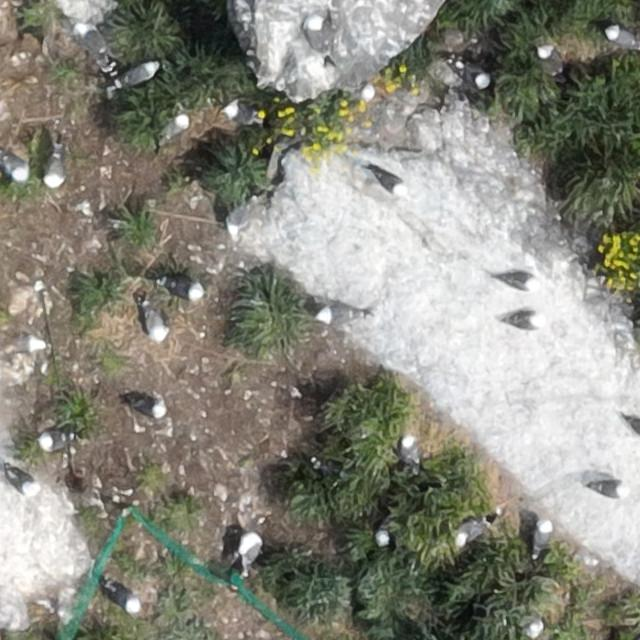umineko: (74, 21, 119, 82), (110, 585, 141, 612), (121, 61, 157, 83), (458, 62, 491, 86), (305, 18, 325, 56), (2, 154, 29, 181), (372, 169, 402, 193), (224, 105, 258, 126), (162, 114, 188, 141), (45, 151, 65, 185), (168, 280, 202, 300), (458, 518, 486, 542), (146, 307, 167, 339), (606, 26, 636, 48), (238, 534, 259, 565), (128, 398, 162, 417), (318, 305, 356, 322), (586, 479, 623, 496), (9, 470, 36, 492), (534, 522, 552, 554), (499, 272, 534, 288), (401, 436, 419, 465), (375, 514, 392, 544), (505, 314, 540, 328), (41, 432, 68, 450), (18, 335, 44, 350), (623, 416, 639, 439)
